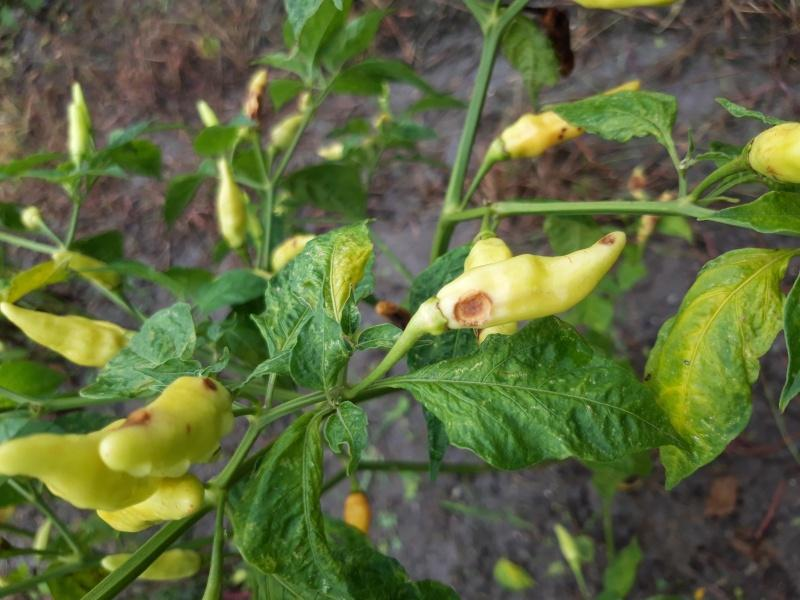antraknosa: (426, 226, 632, 335), (94, 373, 245, 477), (498, 80, 641, 159)
cabai_normal: (2, 301, 140, 366), (214, 158, 249, 247)
